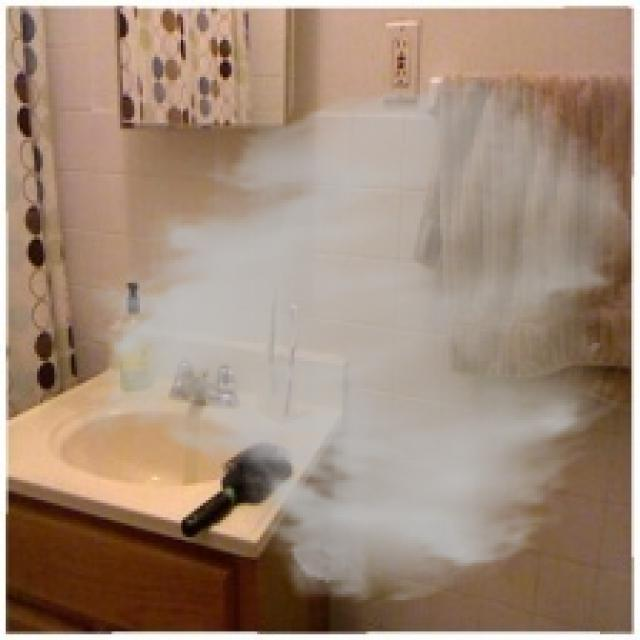Smoke: (72, 66, 638, 608)
